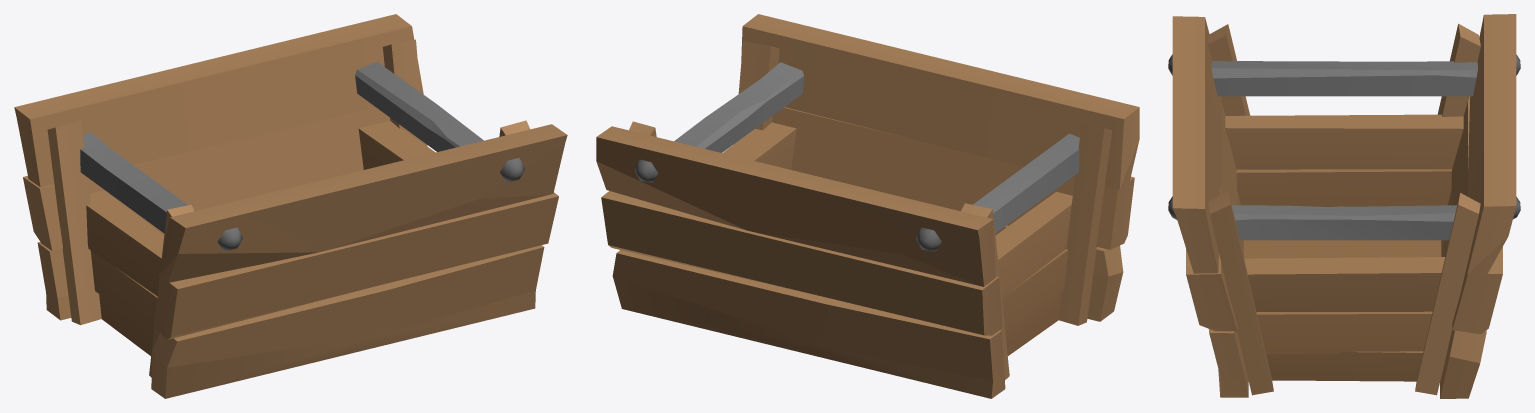
The model's file is Bucket_Wood_C.fbx.
The picture shows the model from 3 angles, left to right: view 1: azimuth 30°, elevation 25°; view 2: azimuth 150°, elevation 25°; view 3: azimuth 270°, elevation 25°; orthographic projection. The views are drawn at different scales.
Visible parts, largest first — view 1: Bucket_Wood_C; view 2: Bucket_Wood_C; view 3: Bucket_Wood_C.
Part boxes in pixels (<box>): Bucket_Wood_C: <box>14,14,567,398</box>; Bucket_Wood_C: <box>596,14,1139,398</box>; Bucket_Wood_C: <box>1168,14,1520,398</box>.
Bounding box in the file's own units: 101 × 47.79 × 77.67.
